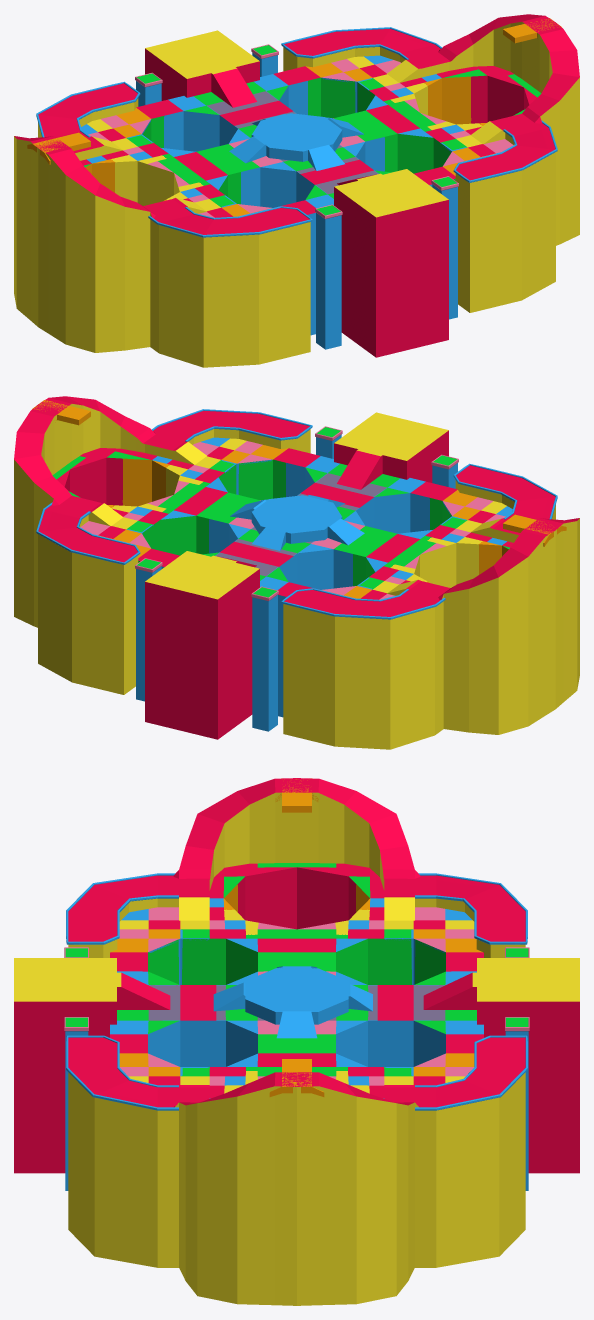
Rendered from WalkingPlane.fbx.
3 renders of one model, top to bottom at view 1: azimuth 30°, elevation 25°; view 2: azimuth 150°, elevation 25°; view 3: azimuth 270°, elevation 25°, orthographic. The views are drawn at different scales.
Visible parts, largest first — view 1: Cube.009, Cube.047, Cube.038, Circle.011, Cube.039; view 2: Cube.009, Cube.047, Cube.038, Circle.011, Cube.039; view 3: Cube.009, Cube.047, Cube.038, Circle.011, Cube.039.
Part boxes in pixels (<box>): Cube.009: <box>14,14,579,367</box>; Cube.047: <box>80,55,541,335</box>; Cube.038: <box>145,30,448,357</box>; Circle.011: <box>229,113,363,170</box>; Cube.039: <box>27,18,561,164</box>; Cube.009: <box>14,396,579,749</box>; Cube.047: <box>52,437,513,717</box>; Cube.038: <box>145,412,448,739</box>; Circle.011: <box>230,495,364,550</box>; Cube.039: <box>32,400,566,546</box>; Cube.009: <box>64,778,529,1305</box>; Cube.047: <box>110,863,483,1098</box>; Cube.038: <box>14,958,579,1173</box>; Circle.011: <box>213,966,372,1038</box>; Cube.039: <box>269,778,324,1096</box>.
Bounding box in the file's own units: 18307 × 6049 × 14173.
